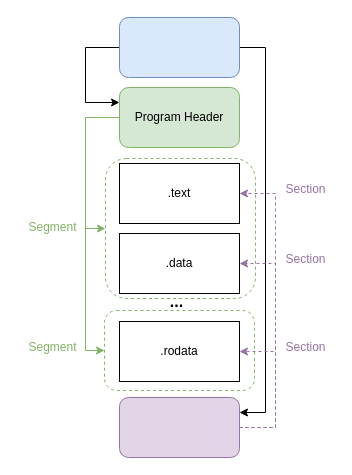
Some shapes in this 352 by 475 pixel diagram are drawn without their labels. The centre of each missing label's shape, as x and y in pixels:
ELF Header: pixel 179 47
Section Header: pixel 179 427
